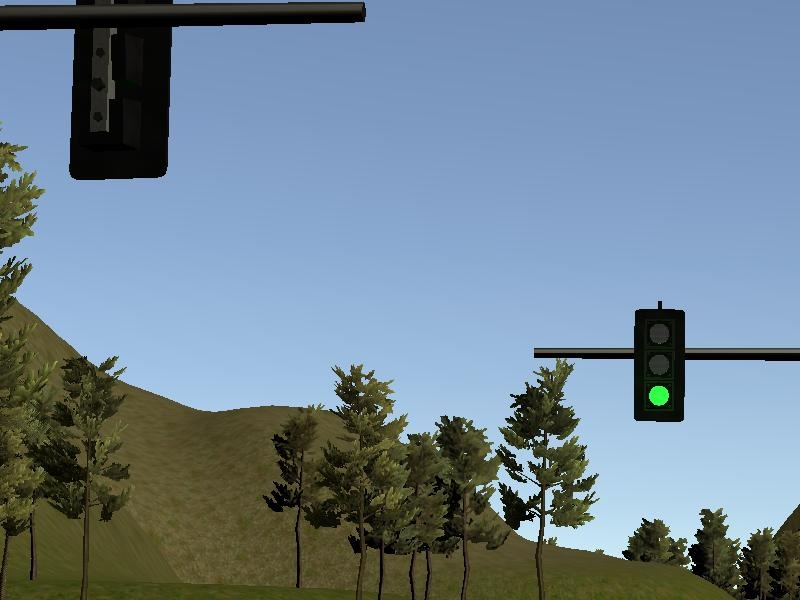GREEN: (633, 308, 686, 423)
